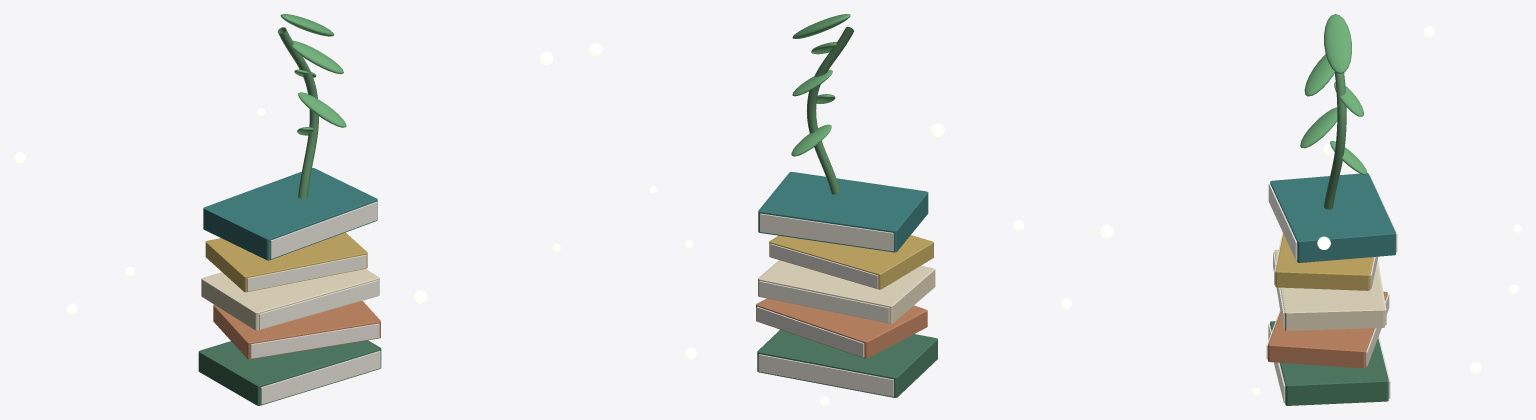
File: sunda.glb
The picture shows the model from 3 angles, left to right: view 1: azimuth 30°, elevation 25°; view 2: azimuth 150°, elevation 25°; view 3: azimuth 270°, elevation 25°; orthographic projection.
Visible parts, largest first — view 1: Book5, Book1, Book3, Book4, Book2, Book1_Pages, Book5_Pages, Book2_Pages, Book3_Pages, Book4_Pages, Stem, Leaf4 (+2 smaller); view 2: Book5, Book1, Book3, Book2, Book4, Book5_Pages, Book1_Pages, Book3_Pages, Book2_Pages, Book4_Pages, Stem, Leaf5 (+1 smaller); view 3: Book5, Book1, Book3, Book2, Book4, Leaf5, Stem, Book5_Pages, Leaf2, Leaf4, Book1_Pages, Book2_Pages (+2 smaller).
Boxes of the visible parts, box(x1,y1,x2,y2) form: Book5: box(203, 168, 377, 260); Book1: box(198, 340, 381, 405); Book3: box(201, 269, 379, 330); Book4: box(205, 232, 367, 292); Book2: box(213, 301, 380, 359); Book1_Pages: box(261, 351, 380, 404); Book5_Pages: box(270, 201, 377, 258); Book2_Pages: box(250, 323, 379, 358); Book3_Pages: box(259, 280, 378, 329); Book4_Pages: box(247, 255, 366, 291); Stem: box(277, 27, 318, 198); Leaf4: box(292, 40, 343, 74); Book5: box(758, 172, 928, 252); Book1: box(757, 329, 937, 397); Book3: box(758, 260, 935, 323); Book2: box(756, 298, 927, 358); Book4: box(769, 235, 933, 289); Book5_Pages: box(760, 213, 893, 251); Book1_Pages: box(758, 354, 893, 396); Book3_Pages: box(759, 281, 889, 322); Book2_Pages: box(756, 306, 864, 357); Book4_Pages: box(770, 243, 878, 288); Stem: box(807, 26, 853, 194); Leaf5: box(792, 14, 850, 38); Book5: box(1270, 173, 1395, 262); Book1: box(1270, 321, 1388, 405); Book3: box(1274, 249, 1384, 330); Book2: box(1268, 291, 1387, 368); Book4: box(1275, 234, 1373, 290); Leaf5: box(1324, 14, 1351, 73); Stem: box(1324, 72, 1346, 209); Book5_Pages: box(1268, 175, 1397, 260); Leaf2: box(1300, 107, 1337, 148); Leaf4: box(1304, 54, 1334, 96); Book1_Pages: box(1268, 324, 1390, 403); Book2_Pages: box(1266, 294, 1389, 366).
Bounding box in the file's own units: 4.21 × 2.93 × 3.15.
